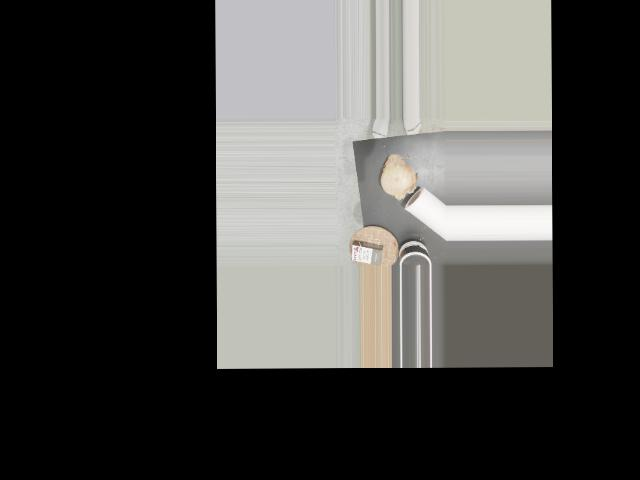onion: (378, 156, 413, 199)
